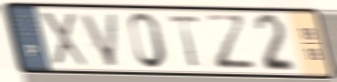0: (127, 11, 169, 71)
2: (252, 12, 299, 75)
T: (166, 14, 203, 70)
V: (77, 11, 121, 69)
X: (37, 9, 91, 69)
Z: (200, 12, 260, 72)
